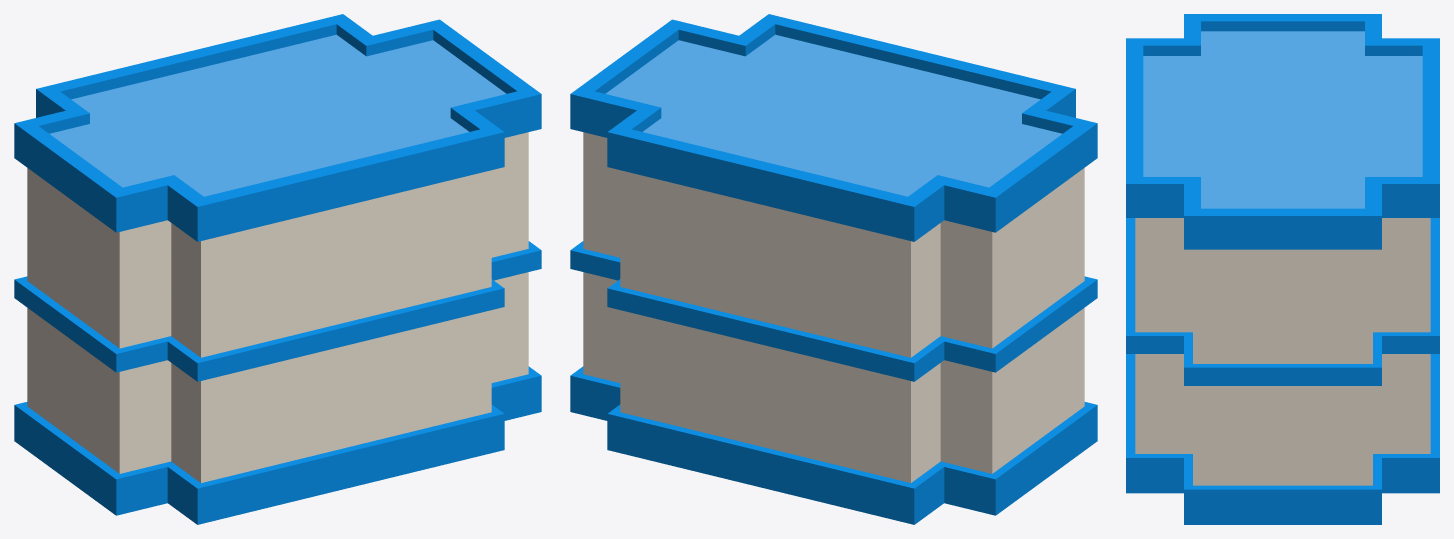
Rendered from Map-House-O-Lv2-B.fbx.
3 renders of one model, left to right at view 1: azimuth 30°, elevation 25°; view 2: azimuth 150°, elevation 25°; view 3: azimuth 270°, elevation 25°, orthographic. The views are drawn at different scales.
Parts seen in each view (by area): view 1: Map-House-O-Lv2-B; view 2: Map-House-O-Lv2-B; view 3: Map-House-O-Lv2-B.
Part boxes in pixels (x1,y1,x2,y2): Map-House-O-Lv2-B: (14,14,541,524); Map-House-O-Lv2-B: (570,14,1097,524); Map-House-O-Lv2-B: (1126,14,1439,524).
Size of the model in its own units: 1.75 by 1.25 by 1.15.
